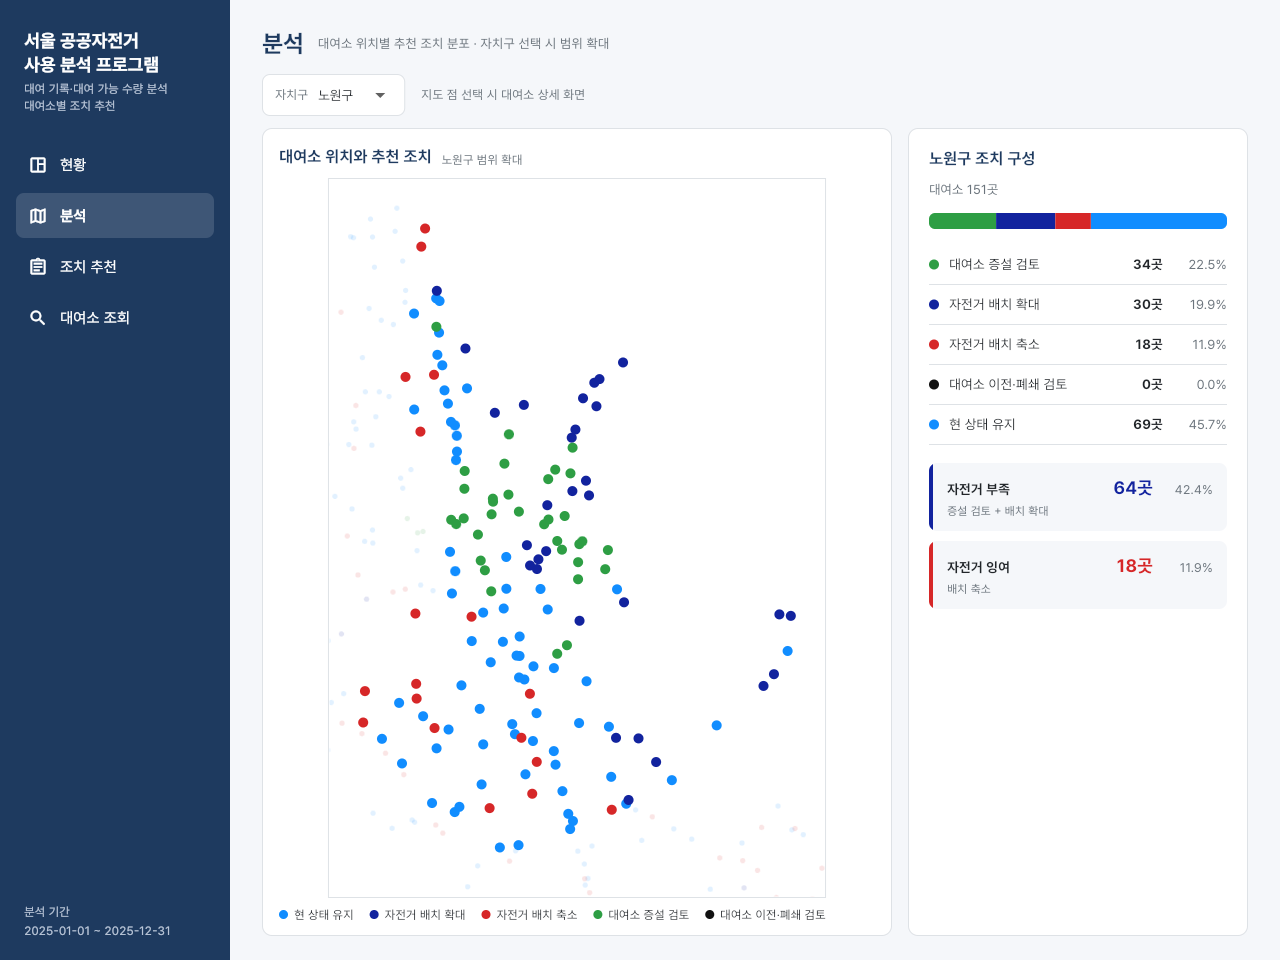

Layout of this report page (visuals, bound fields, positions):
{"tool":"powerbi","page":{"name":"1 페이지","canvas":[1920,1080],"ordinal":0},"visuals":[{"type":"barChart","title":"조치별 대여소 수","fields":{"Category":["stations.조치"],"Series":["stations.조치"],"Y":["stations.대여소 수"]},"box":[30,90,560,400],"z":0},{"type":"scatterChart","title":"대여소 위치와 조치 (위경도)","fields":{"Category":["stations.대여소번호"],"Series":["stations.조치"],"X":["Sum(stations.경도)"],"Y":["Sum(stations.위도)"]},"box":[610,90,640,650],"z":1},{"type":"barChart","title":"자치구별 조치 대상 대여소 수","fields":{"Category":["stations.자치구"],"Series":["stations.조치"],"Y":["stations.조치 대상 수"]},"box":[1270,90,620,650],"z":2},{"type":"slicer","fields":{"Values":["stations.자치구"]},"box":[30,510,560,100],"z":3},{"type":"slicer","fields":{"Values":["stations.조치"]},"box":[30,630,560,200],"z":4},{"type":"tableEx","title":"대여소 목록 (자치구·조치 선택 반영)","fields":{"Values":["stations.대여소명","stations.자치구","stations.조치","Sum(stations.하루평균대여)","Sum(stations.공백률)","Sum(stations.평균주차대수)"]},"box":[610,760,1280,300],"z":5},{"type":"textbox","box":[30,830,560,230],"z":6},{"type":"textbox","box":[30,15,1860,60],"z":7}]}

Visuals, with their boxes on the page's 1920x1080 design canvas (x1, y1, x2, y2). These are canvas units, not pixel positions in the 1280x960 screenshot, which may show the page scaled, cropped or inside an application window:
"조치별 대여소 수" barChart: detection(30, 90, 590, 490)
"대여소 위치와 조치 (위경도)" scatterChart: detection(610, 90, 1250, 740)
"자치구별 조치 대상 대여소 수" barChart: detection(1270, 90, 1890, 740)
slicer - stations.자치구: detection(30, 510, 590, 610)
slicer - stations.조치: detection(30, 630, 590, 830)
"대여소 목록 (자치구·조치 선택 반영)" tableEx: detection(610, 760, 1890, 1060)
textbox: detection(30, 830, 590, 1060)
textbox: detection(30, 15, 1890, 75)
